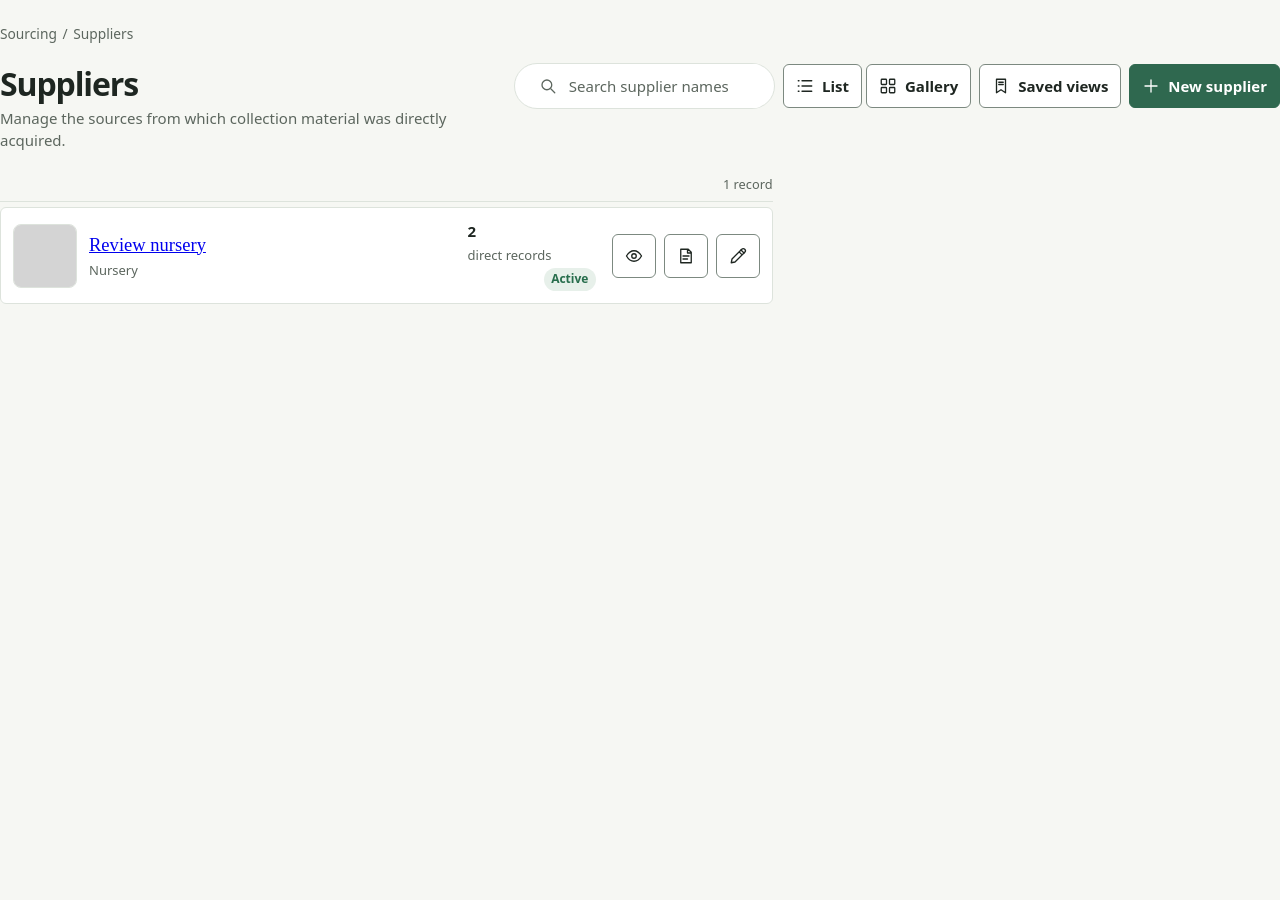
Test: Quick Preview contextual edit opens a modal, saves with PUT and returns focus
Click the button named "Quick preview Review nursery" at [634, 256], box left=612, top=234, right=656, bottom=278
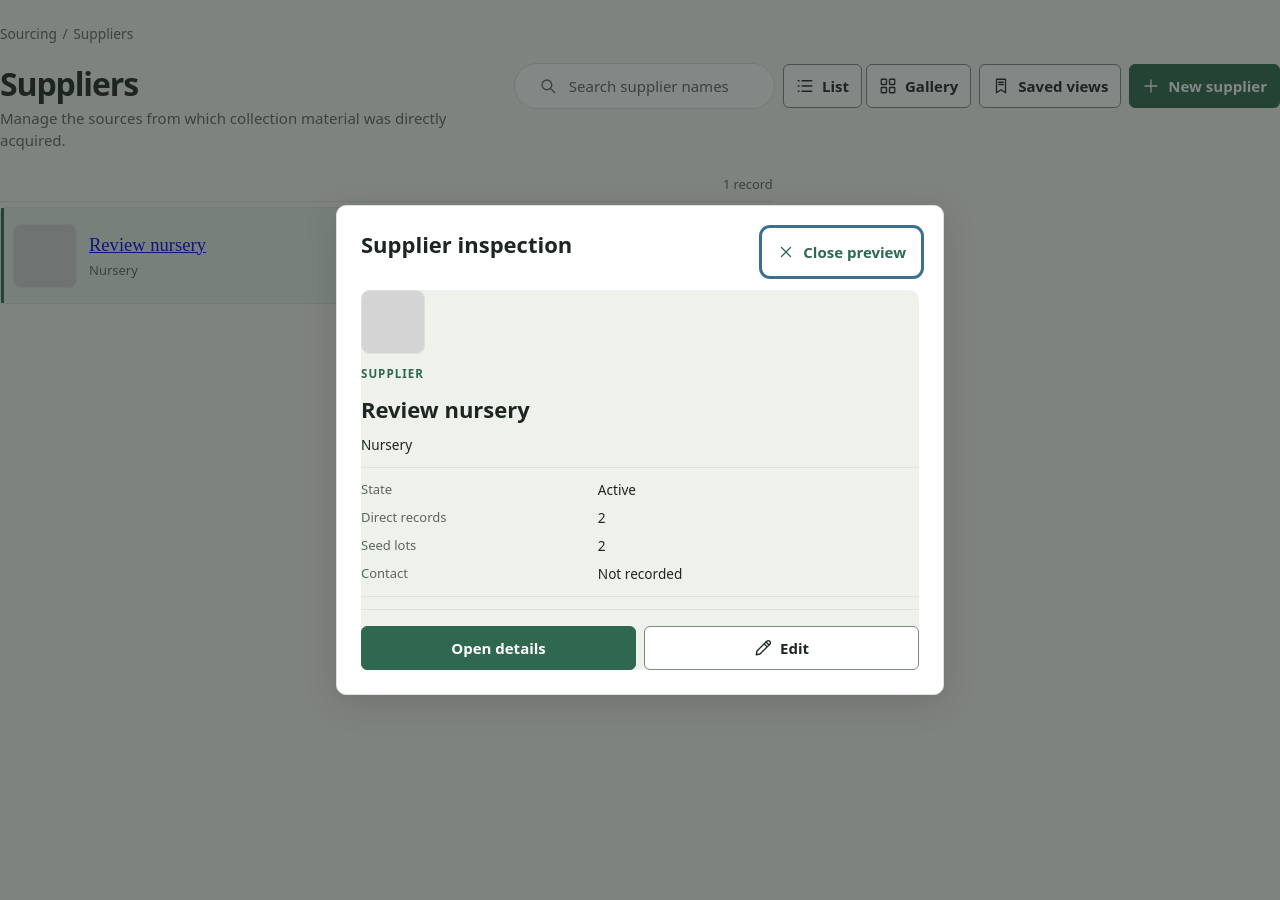
Click the button "Edit" at [782, 648], box left=644, top=626, right=919, bottom=670
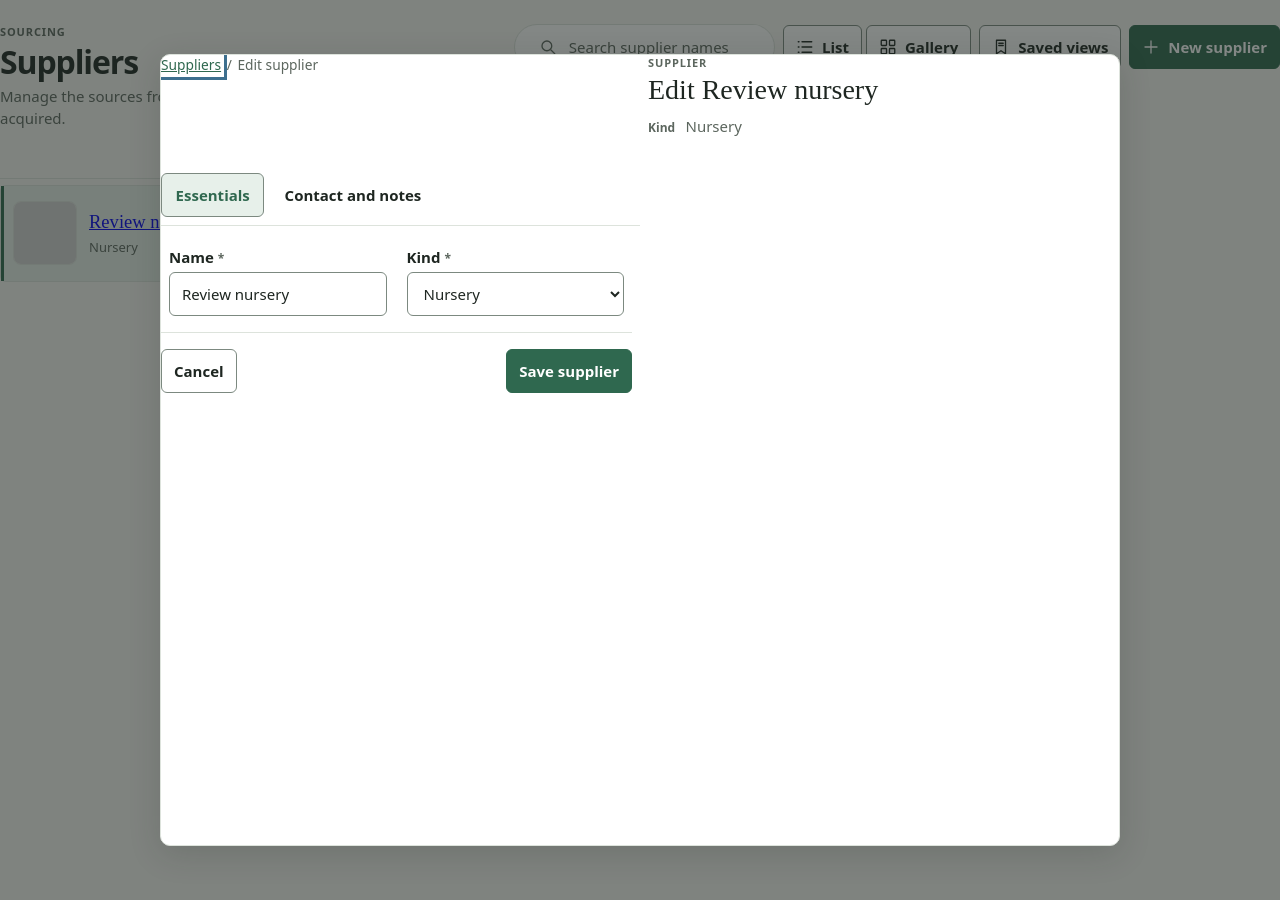
Now the element with class "collection-context-page" has attribute aria-hidden="true", box left=0, top=24, right=1279, bottom=282
Replace the text in the field labelled "Name" with "Corrected nursery" at [278, 294], box left=169, top=272, right=386, bottom=316
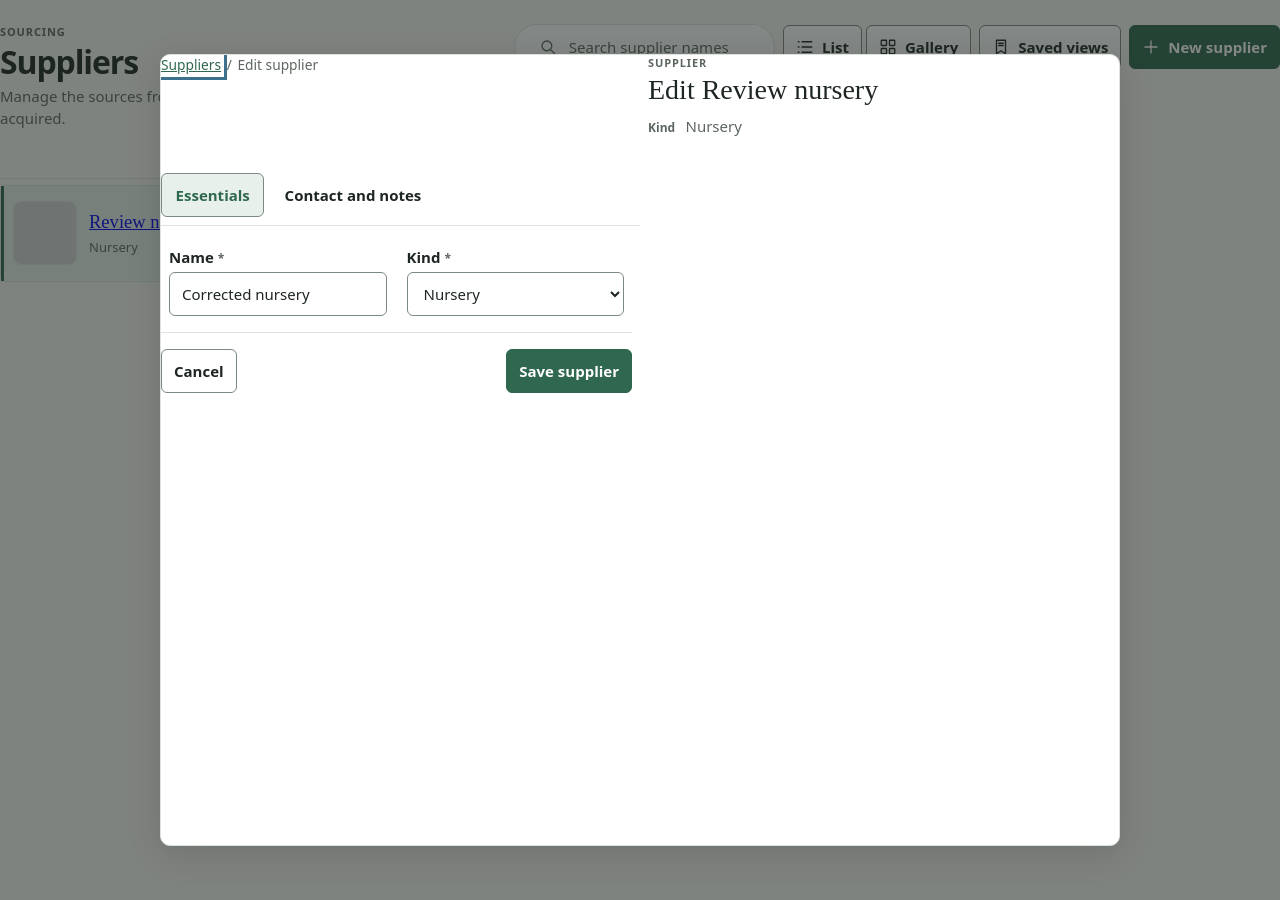
Click the button "Save supplier" at [569, 371], box left=506, top=349, right=632, bottom=393
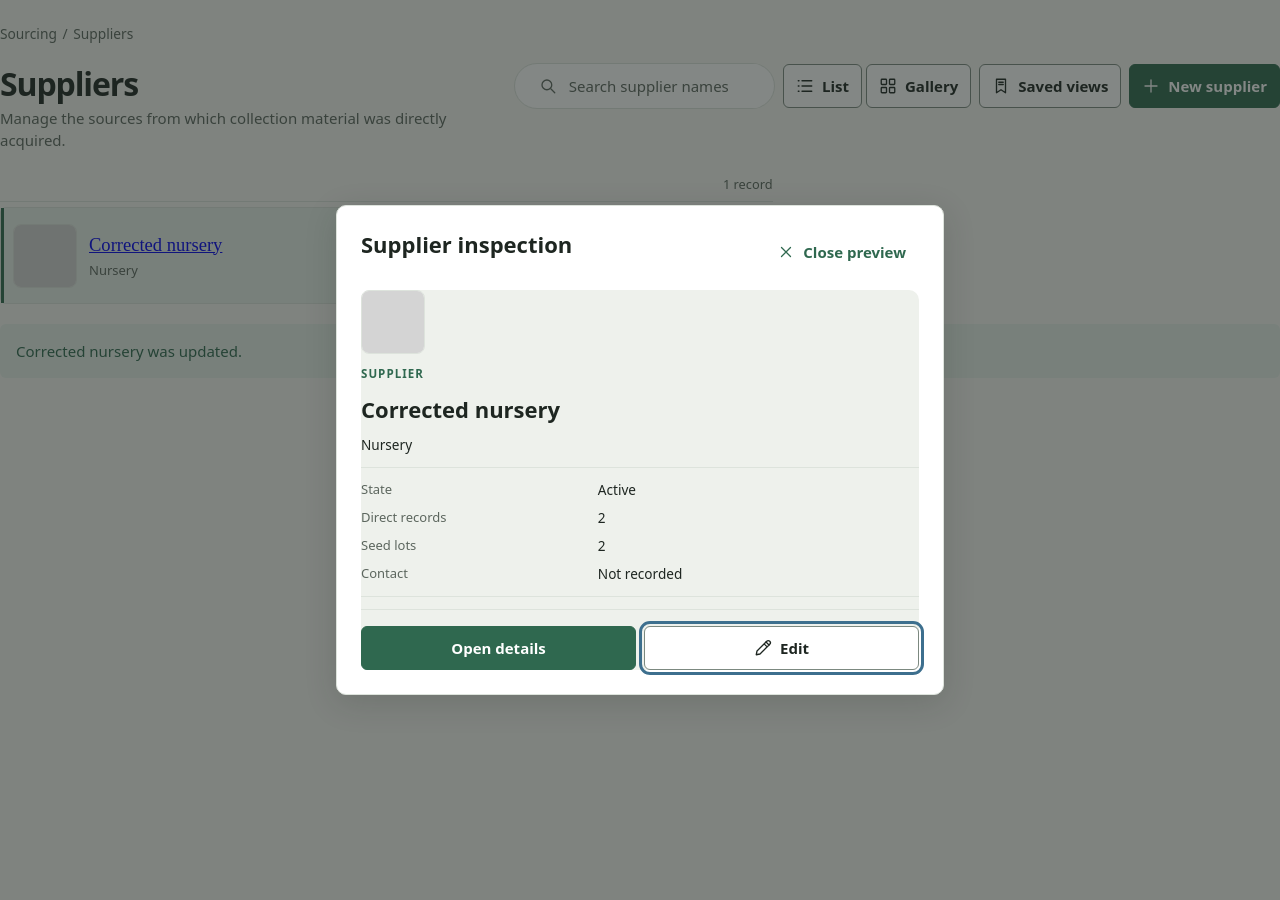
Now the element named "Quick preview" shows "Corrected nursery", box left=361, top=394, right=560, bottom=424
